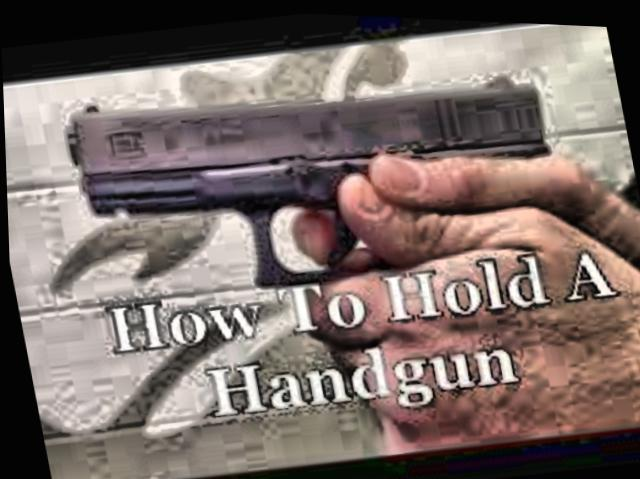pistol: (52, 21, 573, 334)
